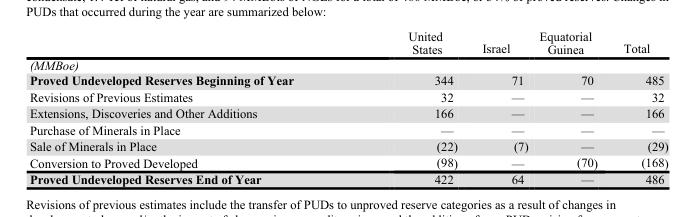table: (28, 29, 667, 185)
table column: (28, 29, 350, 185), (350, 29, 469, 185), (533, 29, 609, 185), (469, 29, 533, 185), (609, 29, 667, 185)
table column header: (28, 29, 667, 56)
table projected row header: (28, 56, 667, 72)
table row: (28, 29, 667, 56), (28, 104, 667, 121), (28, 137, 667, 154), (28, 56, 667, 72), (28, 72, 667, 88), (28, 88, 667, 104), (28, 121, 667, 137), (28, 154, 667, 170), (28, 170, 667, 185)
